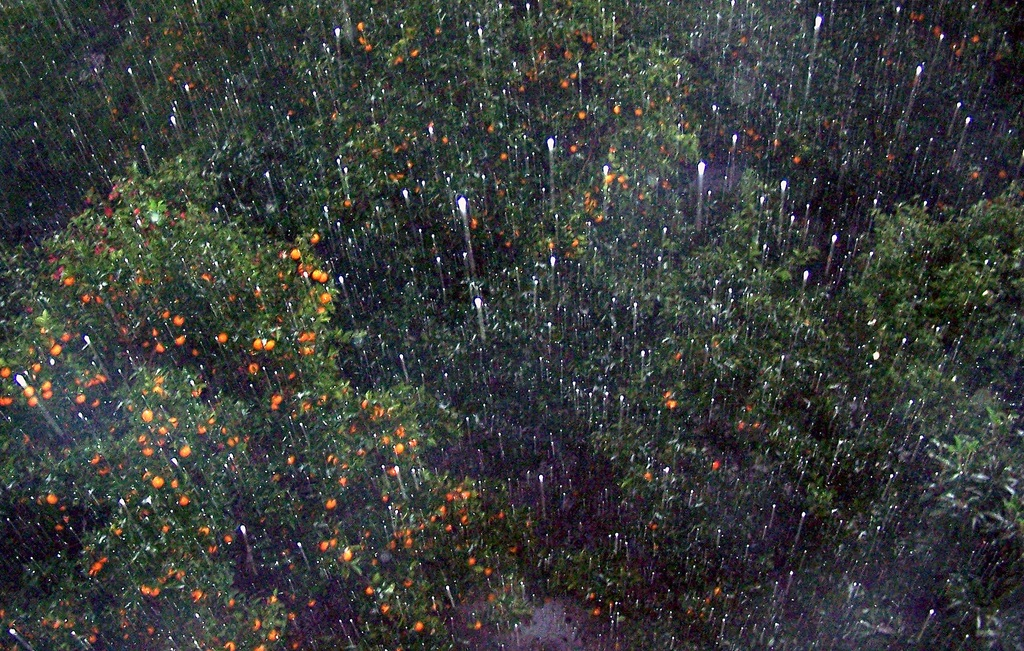Ripe: (340, 547, 355, 564)
